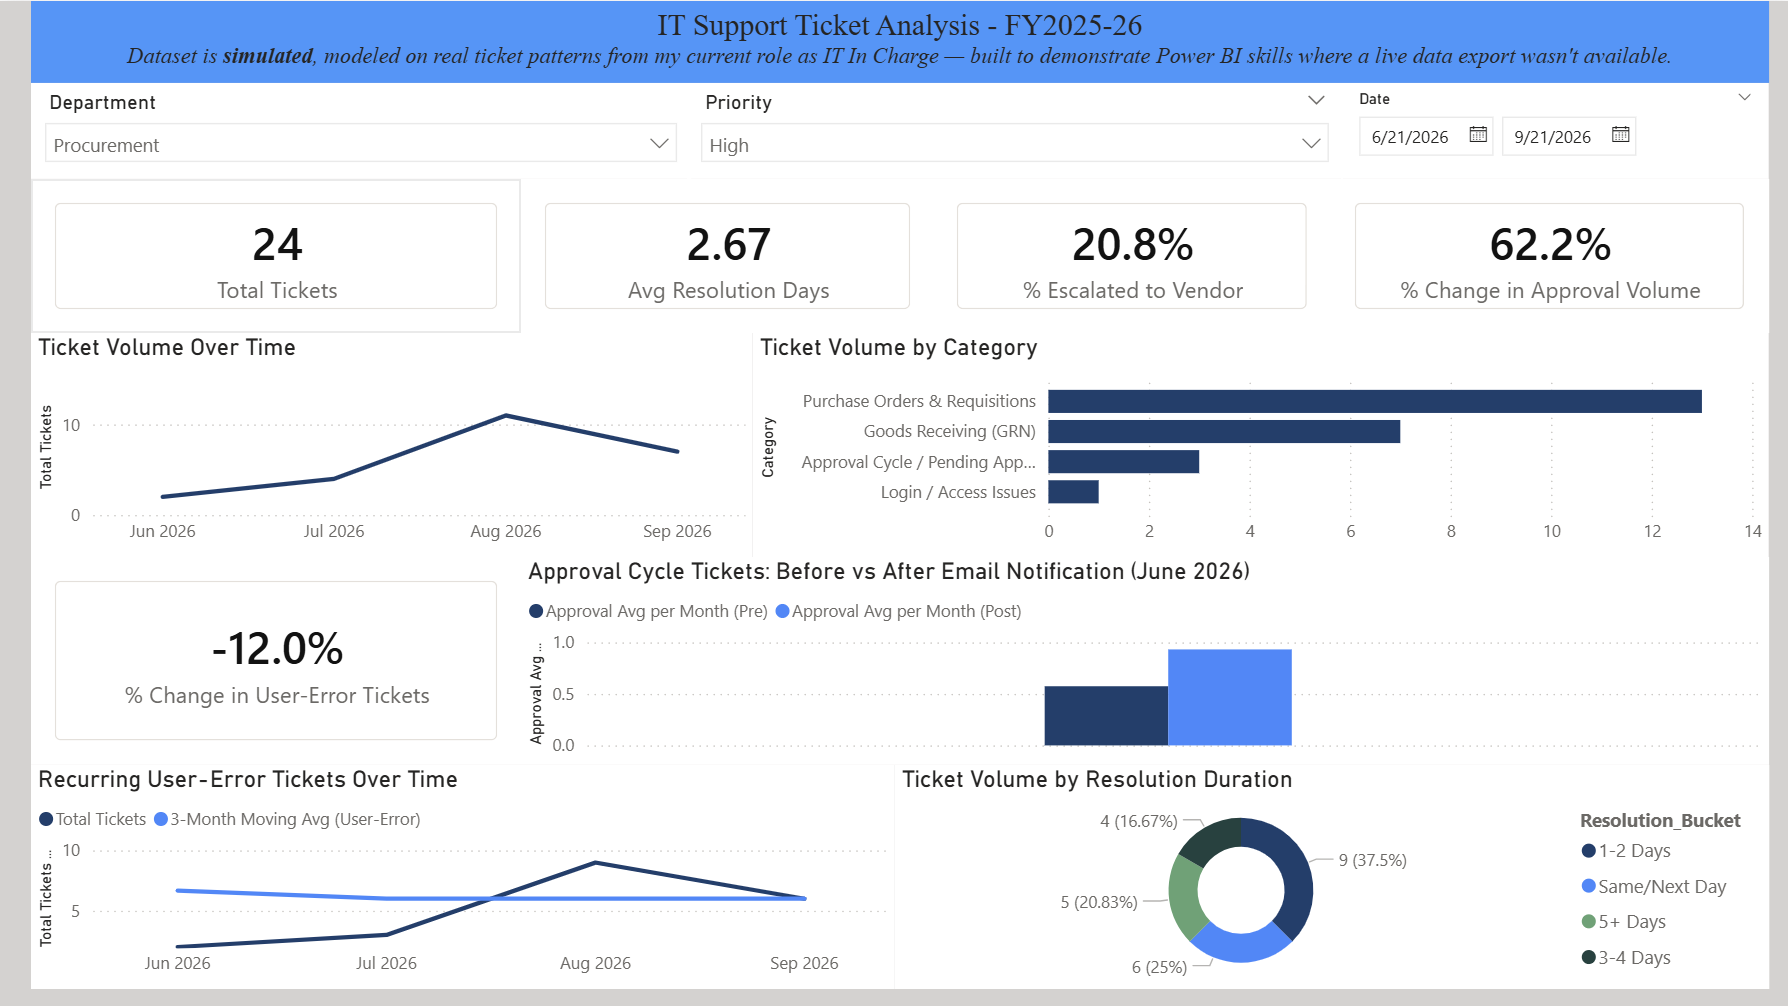

The page's visual inventory and layout, read from the dashboard file:
{"tool":"powerbi","page":{"name":"Page 1","canvas":[1280,720],"ordinal":0},"visuals":[{"type":"cardVisual","fields":{"Data":["Tickets.Total Tickets"]},"box":[0,68.2,357.9,121.3],"z":0},{"type":"cardVisual","fields":{"Data":["Tickets.Avg Resolution Days"]},"box":[357.9,69.8,307.9,119.8],"z":1000},{"type":"cardVisual","fields":{"Data":["Tickets.% Escalated to Vendor"]},"box":[667.3,68.2,307.9,121.3],"z":2000},{"type":"cardVisual","fields":{"Data":["Tickets.% Change in Approval Volume"]},"box":[972.1,68.2,307.9,121.3],"z":3000},{"type":"lineChart","fields":{"Category":["DateTable.MonthYear"],"Y":["Tickets.Total Tickets"]},"box":[0,206.3,667.3,168.3],"z":4000},{"type":"clusteredBarChart","fields":{"Category":["Tickets.Category"],"Y":["Tickets.Total Tickets"]},"box":[665.8,206.3,612.7,169.9],"z":5000},{"type":"clusteredColumnChart","title":"Approval Cycle Tickets: Before vs After Email Notification (June 2026)","fields":{"Y":["Tickets.Approval Avg per Month (Pre)","Tickets.Approval Avg per Month (Post)"]},"box":[357.9,374.6,922.1,159.2],"z":6000},{"type":"lineChart","title":"Recurring User-Error Tickets Over Time","fields":{"Category":["DateTable.MonthYear"],"Y":["Tickets.Total Tickets","Tickets.3-Month Moving Avg (User-Error)"]},"box":[0,542.9,640,177.4],"z":7000},{"type":"donutChart","fields":{"Category":["Tickets.Resolution_Bucket"],"Y":["Tickets.Total Tickets"]},"box":[640,543,640,177],"z":8000},{"type":"cardVisual","fields":{"Data":["Tickets.% Change in User-Error Tickets"]},"box":[0,374.6,357.9,159.2],"z":9000},{"type":"slicer","fields":{"Values":["Tickets.Department"]},"box":[0,0,492.9,68.2],"z":10000},{"type":"slicer","fields":{"Values":["Tickets.Priority"]},"box":[492.9,1.5,468.6,68.2],"z":11000},{"type":"slicer","fields":{"Values":["DateTable.Date"]},"box":[960,0,321.5,68.2],"z":12000}]}

Visuals, with their boxes in screenshot pixels (x1, y1, x2, y2), scaled from the page's 1280x720 canvas onto the 1788x1006 screenshot:
cardVisual - Tickets.Total Tickets: <box>0,95,500,265</box>
cardVisual - Tickets.Avg Resolution Days: <box>500,98,930,265</box>
cardVisual - Tickets.% Escalated to Vendor: <box>932,95,1362,265</box>
cardVisual - Tickets.% Change in Approval Volume: <box>1358,95,1787,265</box>
lineChart - DateTable.MonthYear x Tickets.Total Tickets: <box>0,288,932,523</box>
clusteredBarChart - Tickets.Category x Tickets.Total Tickets: <box>930,288,1786,526</box>
"Approval Cycle Tickets: Before vs After Email Notification (June 2026)" clusteredColumnChart: <box>500,523,1787,746</box>
"Recurring User-Error Tickets Over Time" lineChart: <box>0,759,894,1005</box>
donutChart - Tickets.Resolution_Bucket x Tickets.Total Tickets: <box>894,759,1787,1005</box>
cardVisual - Tickets.% Change in User-Error Tickets: <box>0,523,500,746</box>
slicer - Tickets.Department: <box>0,0,689,95</box>
slicer - Tickets.Priority: <box>689,2,1343,97</box>
slicer - DateTable.Date: <box>1341,0,1787,95</box>
